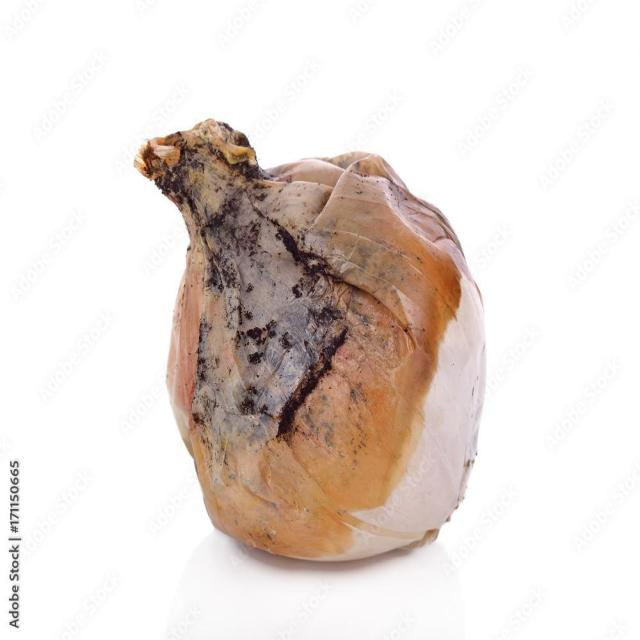Onion: (135, 113, 492, 558)
